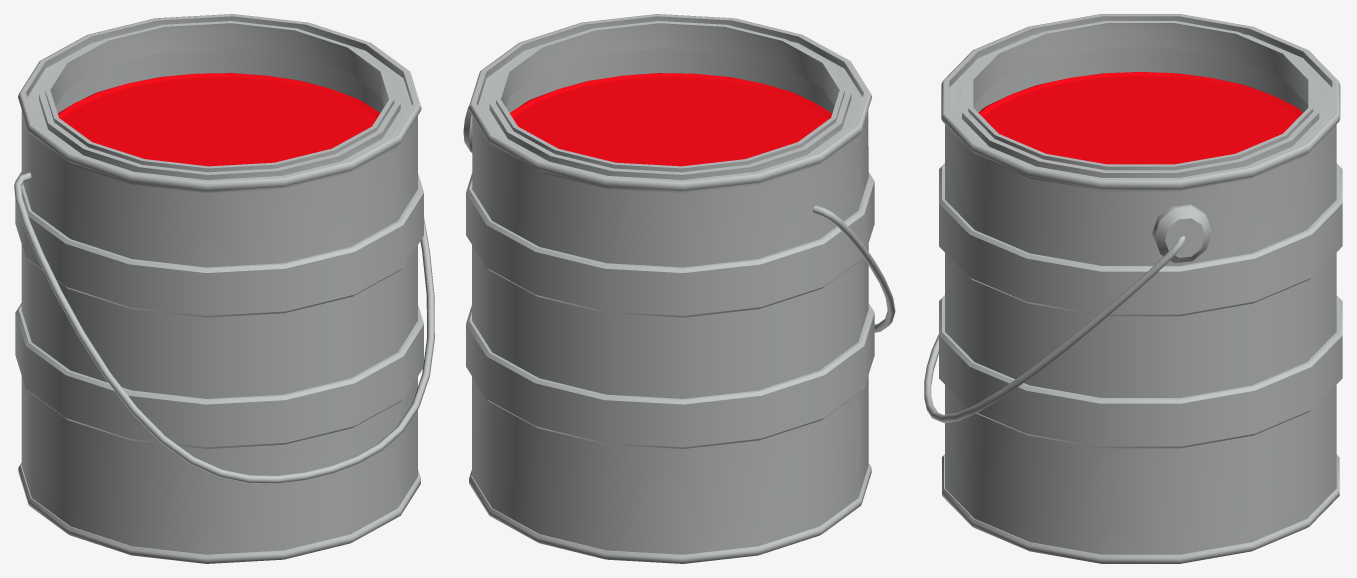
The model's file is paint_bucket2.fbx.
3 renders of one model, left to right at view 1: azimuth 30°, elevation 25°; view 2: azimuth 150°, elevation 25°; view 3: azimuth 270°, elevation 25°, orthographic.
Visible parts, largest first — view 1: Paint; view 2: Paint; view 3: Paint.
Part boxes in pixels (<box>): Paint: <box>14,14,434,563</box>; Paint: <box>463,14,895,563</box>; Paint: <box>924,14,1342,563</box>.
Size of the model in its own units: 0.3026 by 0.2948 by 0.2885.
2 materials, 1 textured.
